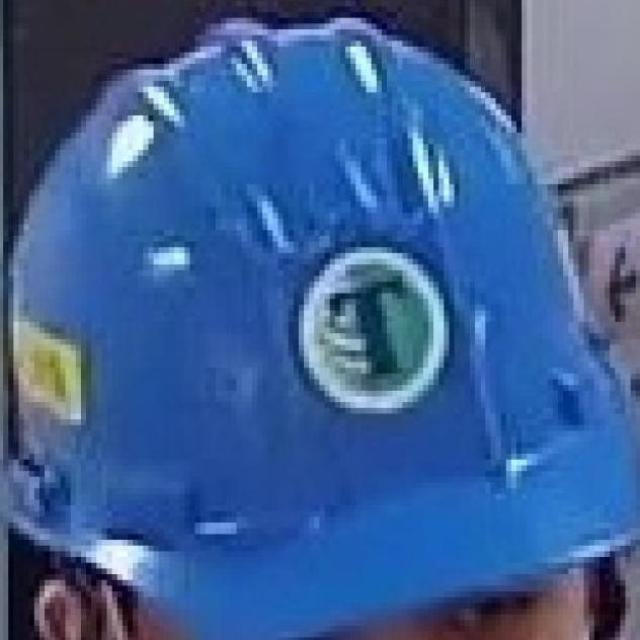blue helmet: (20, 34, 627, 581)
